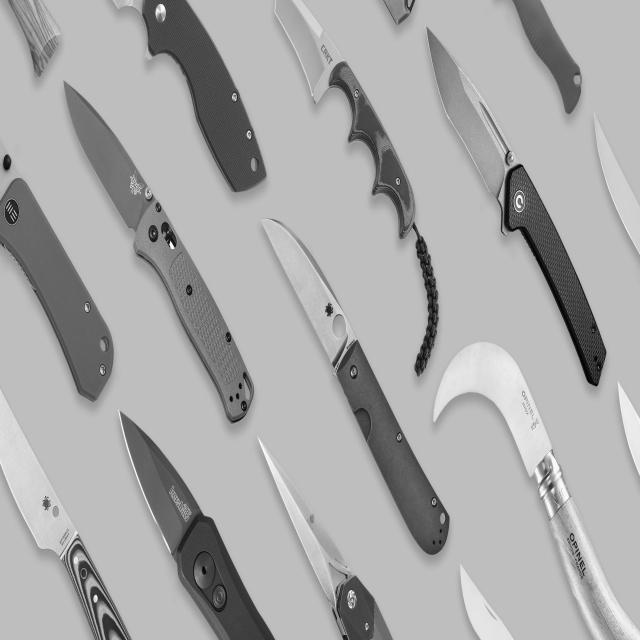Knife: (88, 41, 268, 456), (413, 19, 614, 390), (254, 195, 459, 507), (72, 426, 290, 640)
